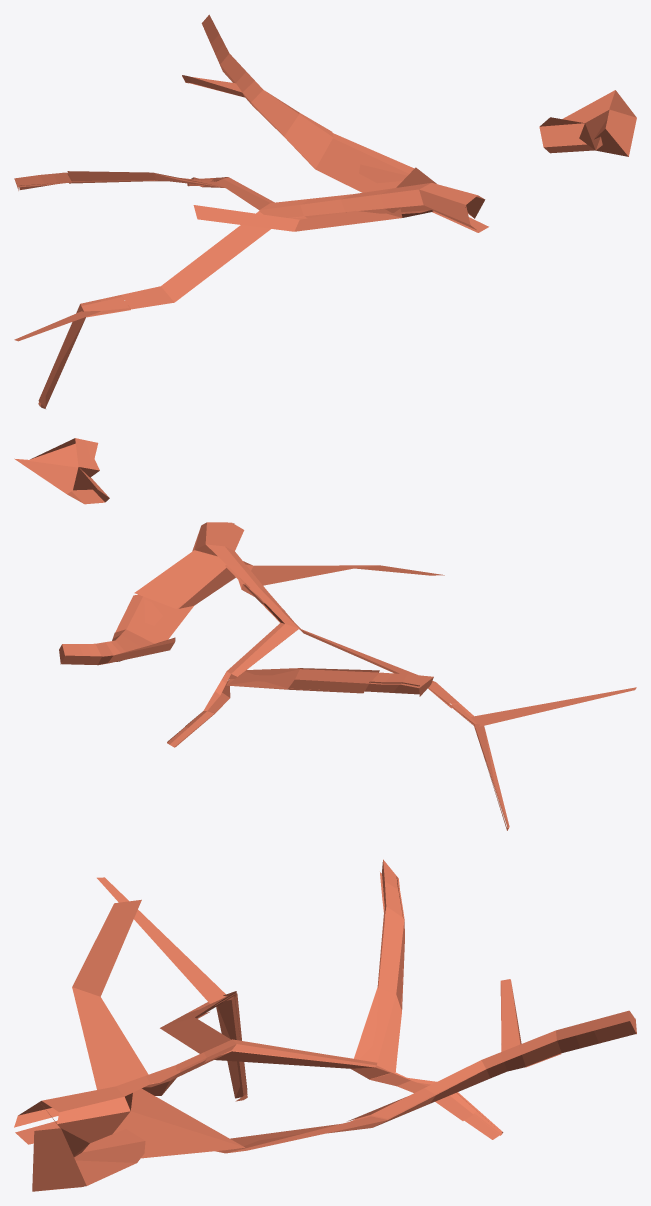
The model's file is Broken  dead tree.fbx.
3 renders of one model, top to bottom at view 1: azimuth 30°, elevation 25°; view 2: azimuth 150°, elevation 25°; view 3: azimuth 270°, elevation 25°, orthographic. The views are drawn at different scales.
Visible parts, largest first — view 1: Cube, Cube.001; view 2: Cube, Cube.001; view 3: Cube, Cube.001.
Boxes of the visible parts, bbox=[...] form: Cube: bbox=[14, 14, 636, 408]; Cube.001: bbox=[14, 29, 488, 407]; Cube: bbox=[14, 438, 507, 830]; Cube.001: bbox=[61, 561, 636, 829]; Cube: bbox=[14, 859, 636, 1191]; Cube.001: bbox=[15, 872, 636, 1153].
Bounding box in the file's own units: 6517 × 2267 × 4146.
